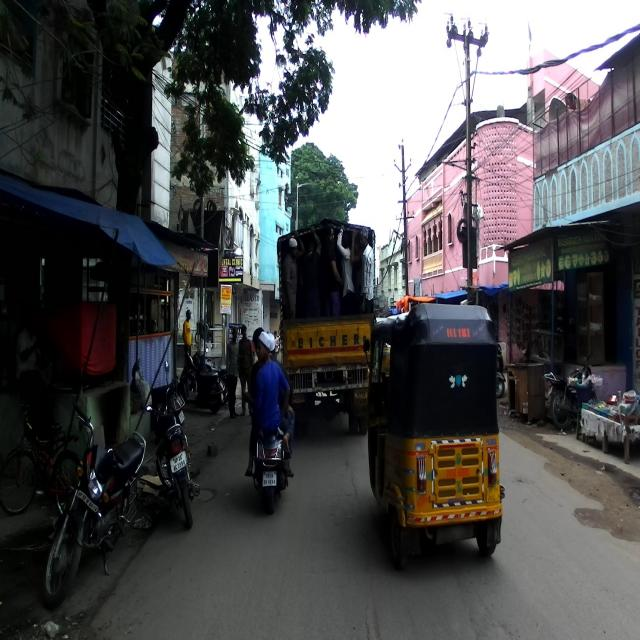autorickshaw: (362, 302, 504, 572)
motorcycle: (39, 398, 148, 610), (144, 360, 200, 529), (543, 350, 599, 432)
scooter: (248, 392, 294, 516), (130, 357, 185, 429), (176, 343, 225, 415)
truck: (273, 210, 381, 442)
